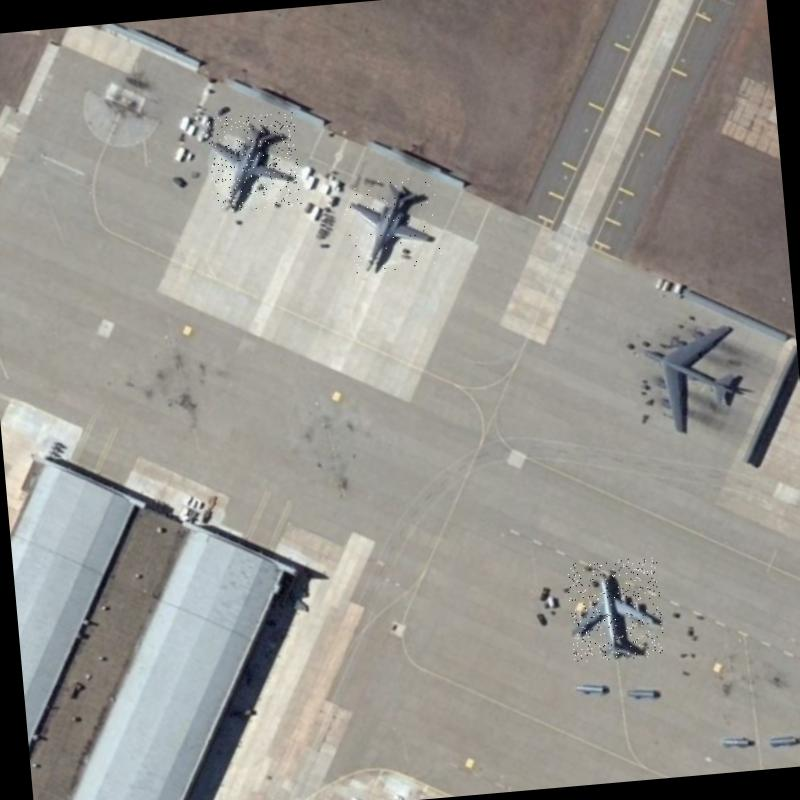A10: (340, 176, 443, 275), (206, 112, 302, 213)
A14: (566, 556, 665, 664)
A8: (632, 316, 760, 433)
